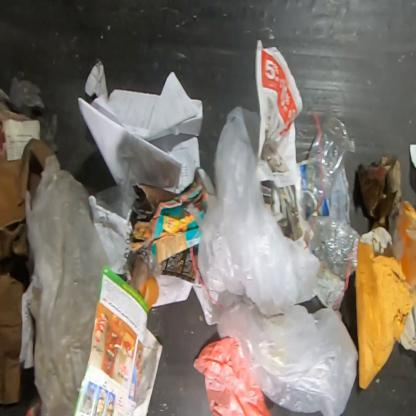cardboard: (0, 139, 54, 407), (355, 197, 416, 398), (129, 167, 210, 264), (358, 156, 402, 233), (0, 107, 37, 159)
rigid_plastic: (298, 115, 350, 217), (317, 214, 362, 280)
soft_plastic: (196, 105, 357, 416), (25, 152, 114, 416), (0, 76, 59, 152)
